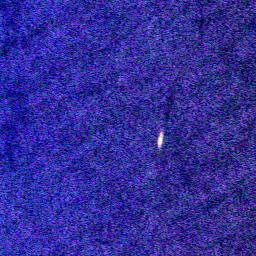Ship: (152, 127, 168, 148)
